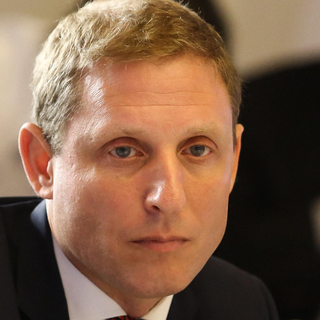eye: (99, 140, 147, 164), (177, 139, 220, 164)
